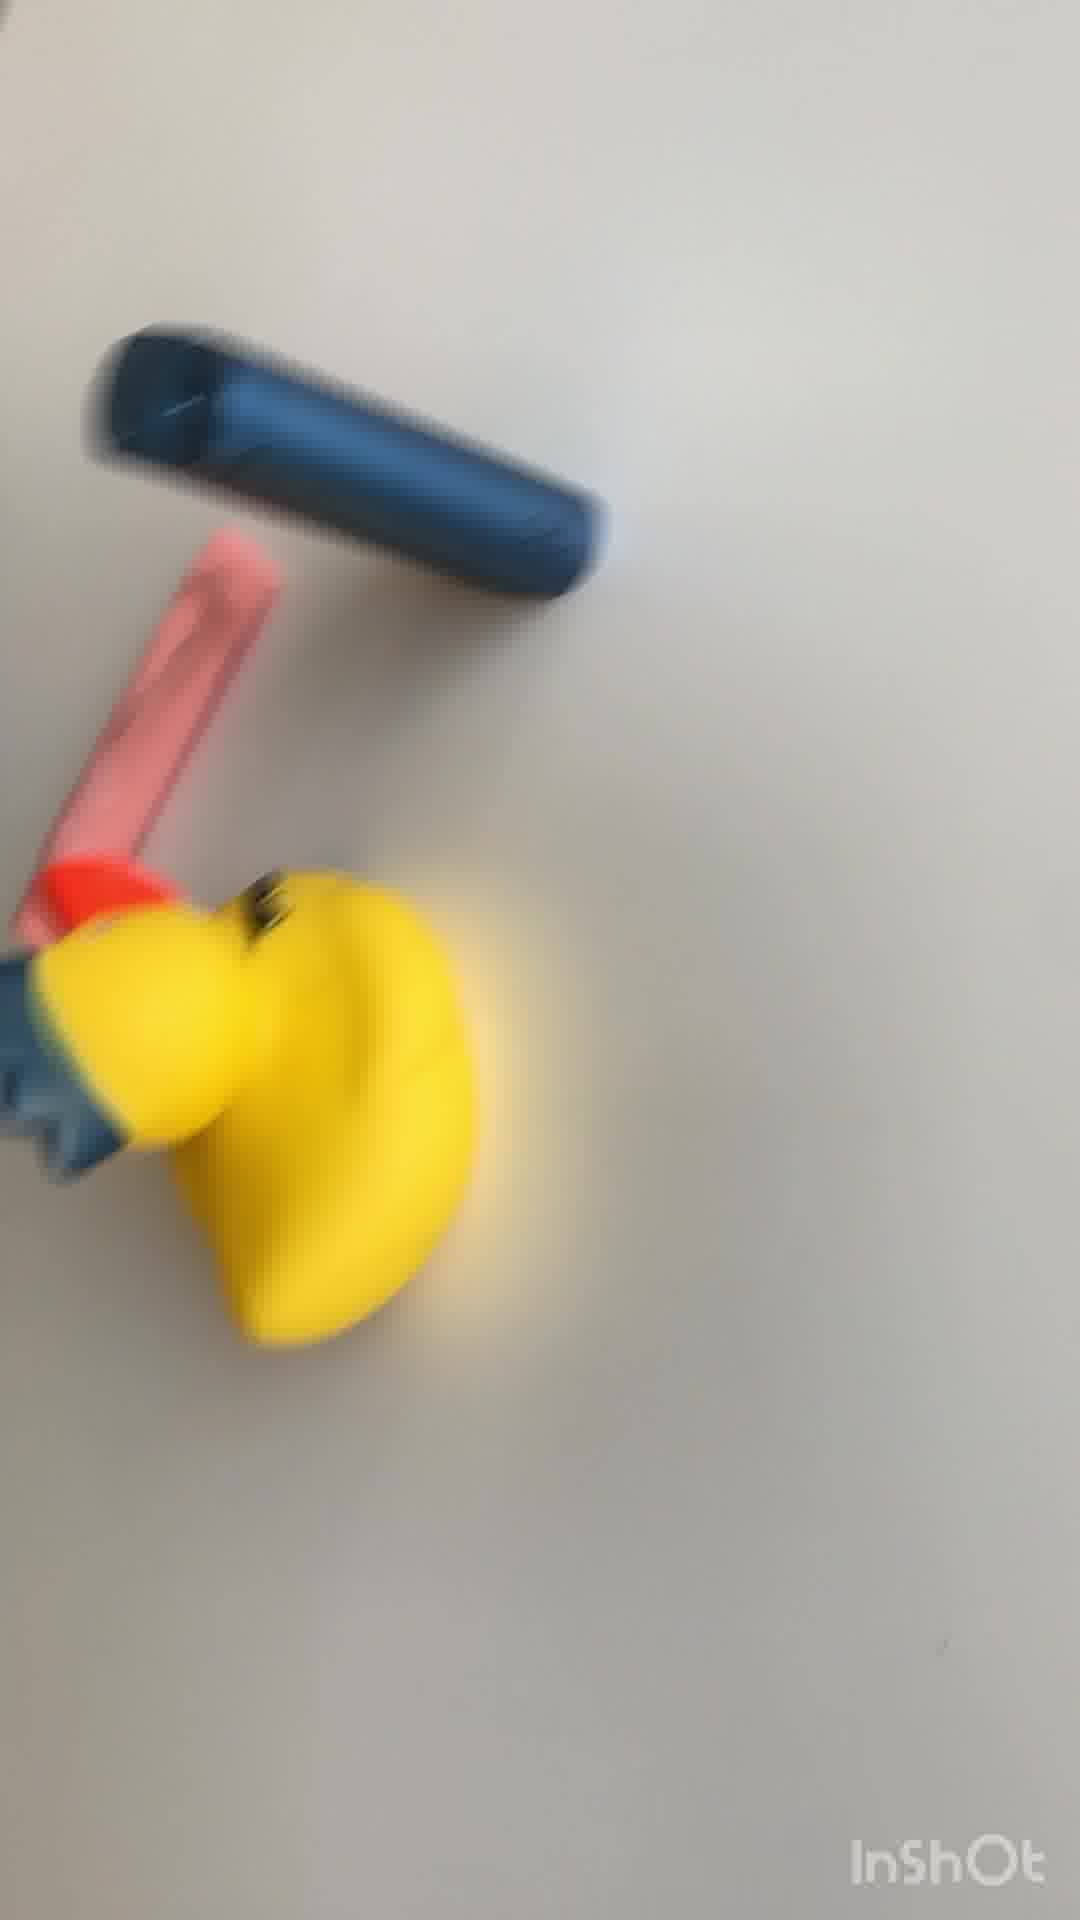duck: (1, 864, 469, 1341)
glo: (90, 323, 611, 605)
lip balm: (1, 524, 287, 967)
